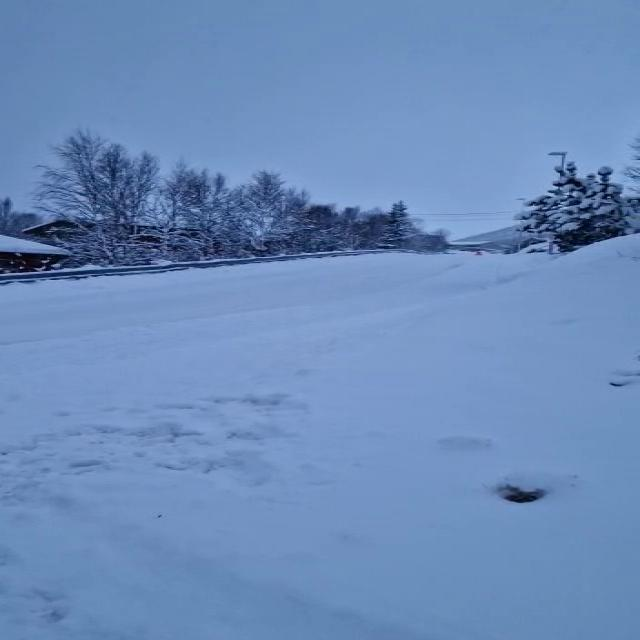path: (0, 248, 500, 340)
